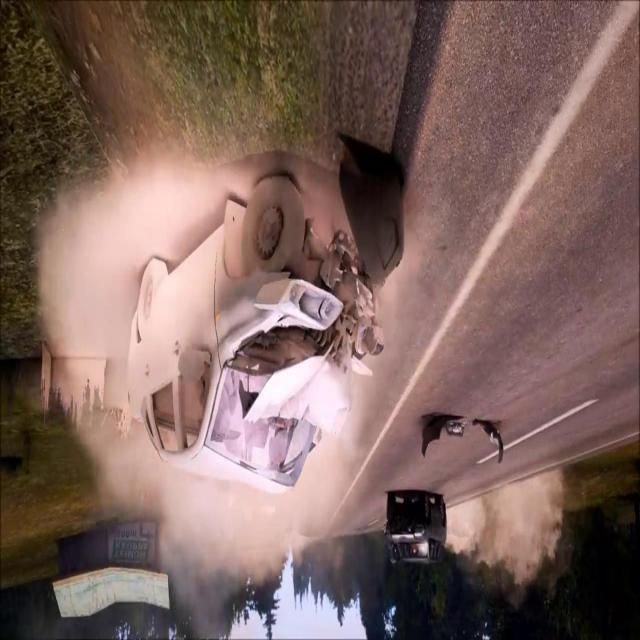severe: (123, 164, 387, 493)
